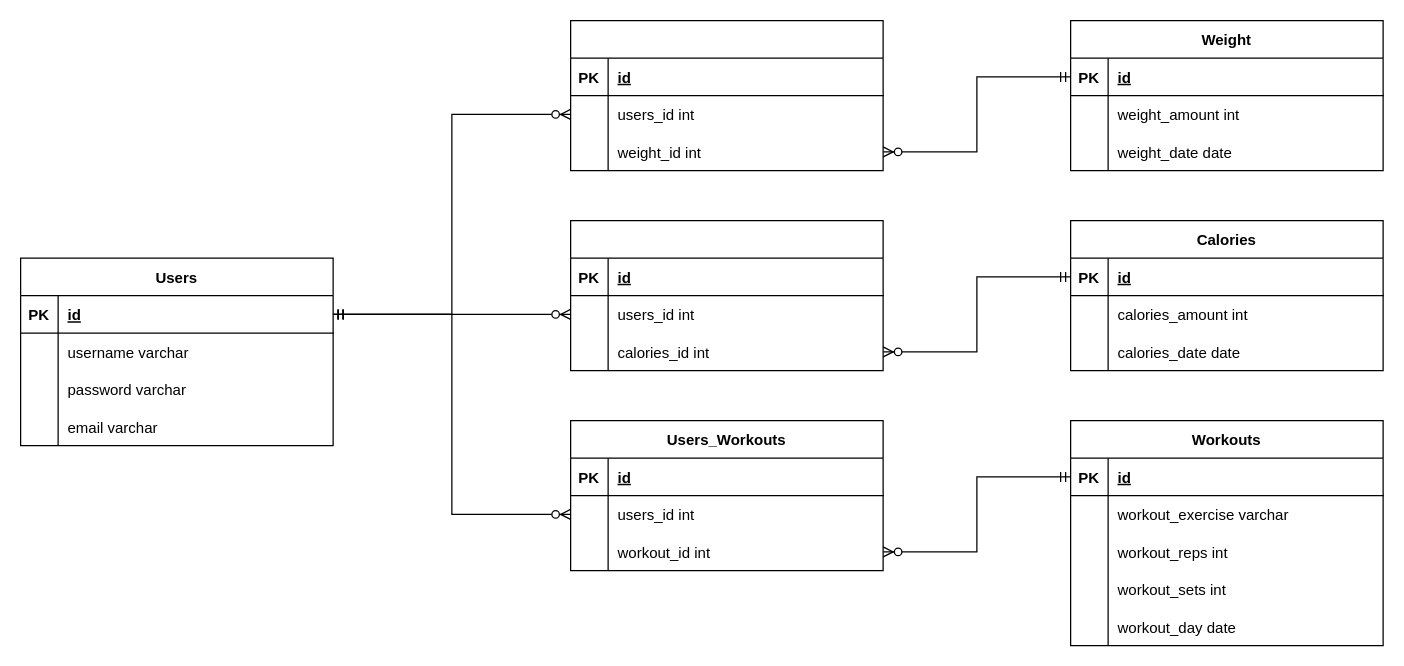
This 1404x666 diagram has some shape labels left out. The shapes that lost their labels are listed below. From the top down, each one's box as (x1, y1, x2, y2) in pixels, then its label:
(569, 19, 883, 171): Users_Weight
(569, 219, 883, 371): Users_Calories
